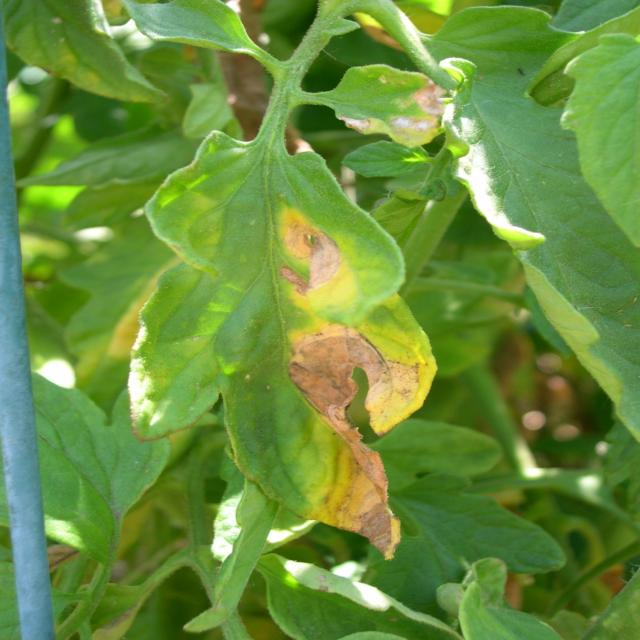Early_blight: (277, 317, 435, 560), (335, 77, 444, 149), (270, 203, 343, 298)
